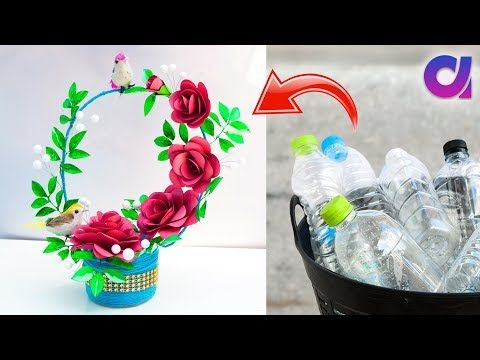plastic_bottle: (315, 158, 444, 329), (274, 98, 360, 320), (313, 103, 401, 318), (370, 103, 459, 284), (410, 167, 480, 318), (429, 104, 480, 255)
